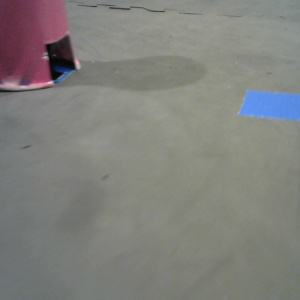middle: (1, 1, 81, 90)
